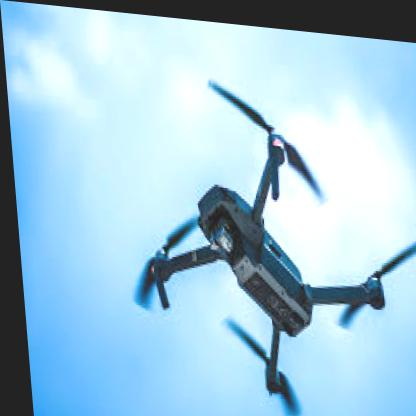UAS: (112, 65, 415, 415)
